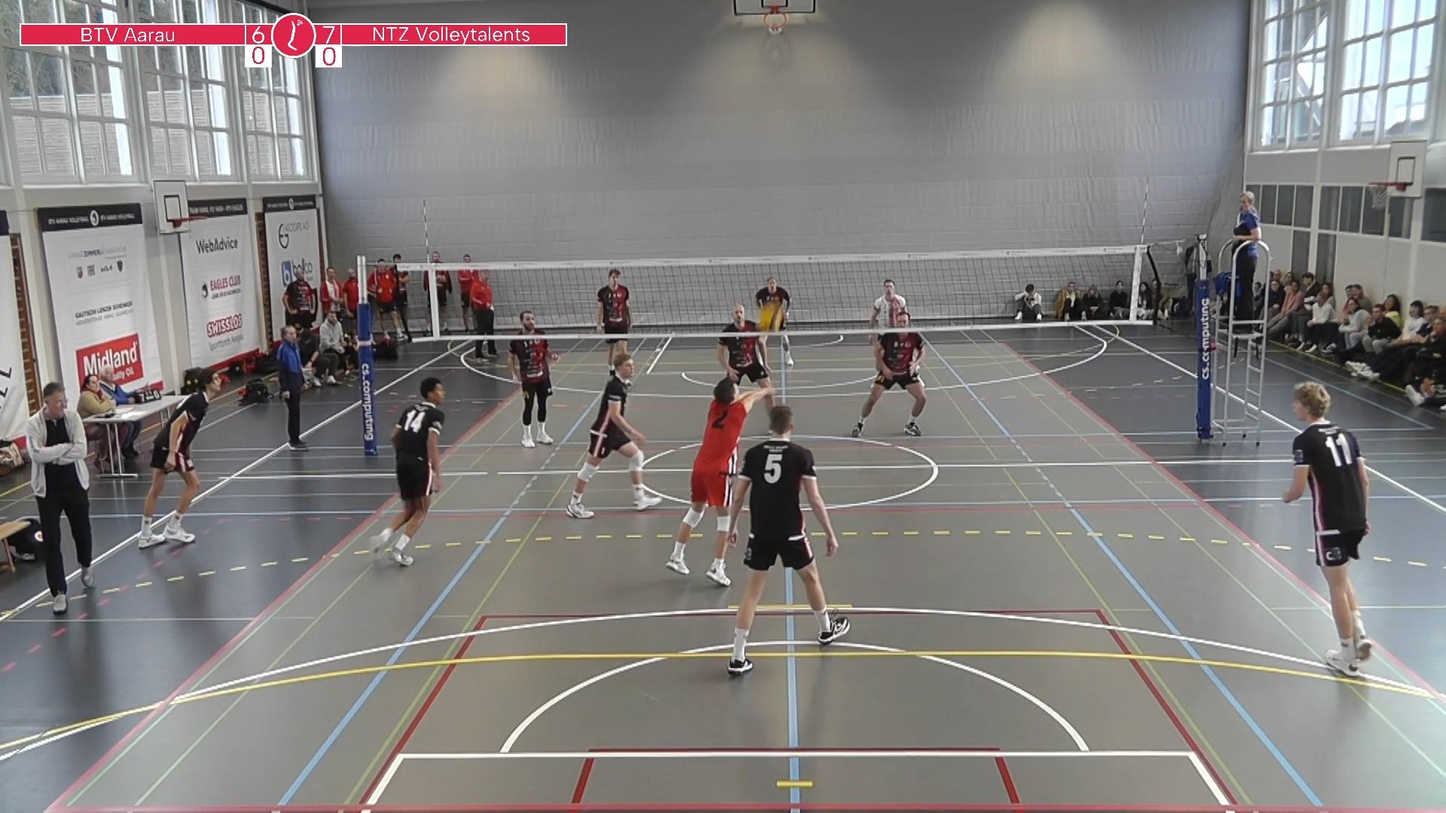alzata: (660, 376, 781, 586)
